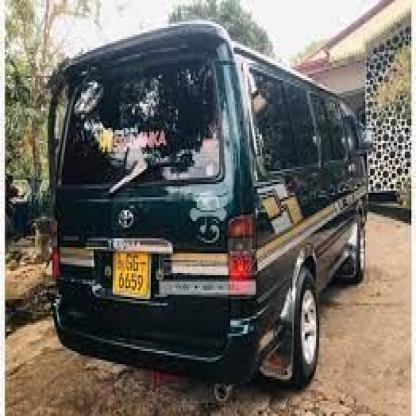number plate: (115, 248, 150, 294)
van back: (41, 16, 376, 394)
